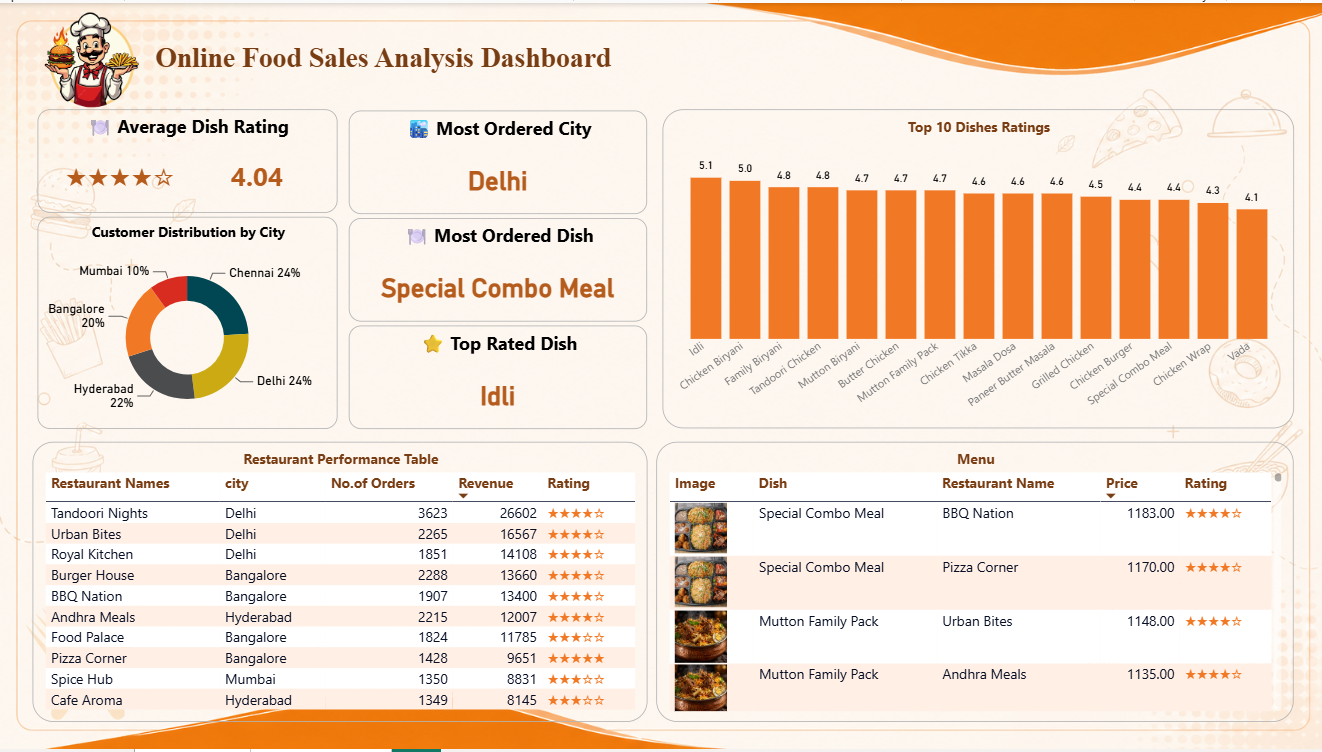

Layout of this report page (visuals, bound fields, positions):
{"tool":"powerbi","page":{"name":"➡️Next Page","canvas":[1280,720],"ordinal":1},"visuals":[{"type":"donutChart","title":"Customer Distribution by City","fields":{"Category":["customers.city"],"Y":["CountNonNull(customers.customer_id)"]},"box":[36.4,206.3,289.5,205.1],"z":0},{"type":"tableEx","title":"Menu","fields":{"Values":["orders.dish_url","orders.dish","restaurants.restaurant_name","Avg(orders.order_amount)","customers.avg food Rating"]},"box":[633.2,423.5,615.3,270.2],"z":1000},{"type":"image","box":[0,0,177.3,114.6],"z":2000},{"type":"cardVisual","title":"🍽️ Average Dish Rating","fields":{"Data":["customers.avg food Rating","Avg(orders.rating)"]},"box":[36.4,102.5,289.5,100.1],"z":3000},{"type":"tableEx","title":"Restaurant Performance Table","fields":{"Values":["restaurants.restaurant_name","restaurants.city","Sum(orders.order_id)","Sum(orders.order_amount)","customers.Count of Rating Star Rating"]},"box":[31.2,423.5,593.6,270.2],"z":4000},{"type":"card","title":"🍽️ Most Ordered Dish","fields":{"Values":["customers.Top Dish Orders"]},"box":[336.6,207.5,288.3,100.1],"z":5000},{"type":"columnChart","title":"Top 10 Dishes Ratings","fields":{"Y":["Avg(orders.rating)"],"Category":["orders.dish"]},"box":[633.4,102.5,375.2,307.6],"z":6000},{"type":"card","title":"⭐ Top Rated Dish","fields":{"Values":["customers.Top Rated Food"]},"box":[336.6,311.3,288.3,100.1],"z":7000},{"type":"card","title":"🏙️ Most Ordered City","fields":{"Values":["customers.Top Ordered City"]},"box":[336.6,103.8,288.3,100.1],"z":8000},{"type":"textbox","box":[144.8,14.5,480.2,62.7],"z":9000},{"type":"textbox","box":[1013.4,102.5,246.1,308.8],"z":10000},{"type":"advancedSlicerVisual","title":"Dish","fields":{"Values":["orders.dish"]},"box":[616.5,15.7,653.9,88.1],"z":11000}]}

Visuals, with their boxes in screenshot pixels (x1, y1, x2, y2), scaled from the page's 1280x720 canvas onto the 1322x752 screenshot:
"Customer Distribution by City" donutChart: [38, 215, 337, 430]
"Menu" tableEx: [654, 442, 1289, 725]
image: [0, 0, 183, 120]
"🍽️ Average Dish Rating" cardVisual: [38, 107, 337, 212]
"Restaurant Performance Table" tableEx: [32, 442, 645, 725]
"🍽️ Most Ordered Dish" card: [348, 217, 645, 321]
"Top 10 Dishes Ratings" columnChart: [654, 107, 1042, 428]
"⭐ Top Rated Dish" card: [348, 325, 645, 430]
"🏙️ Most Ordered City" card: [348, 108, 645, 213]
textbox: [150, 15, 646, 81]
textbox: [1047, 107, 1301, 430]
"Dish" advancedSlicerVisual: [637, 16, 1312, 108]
